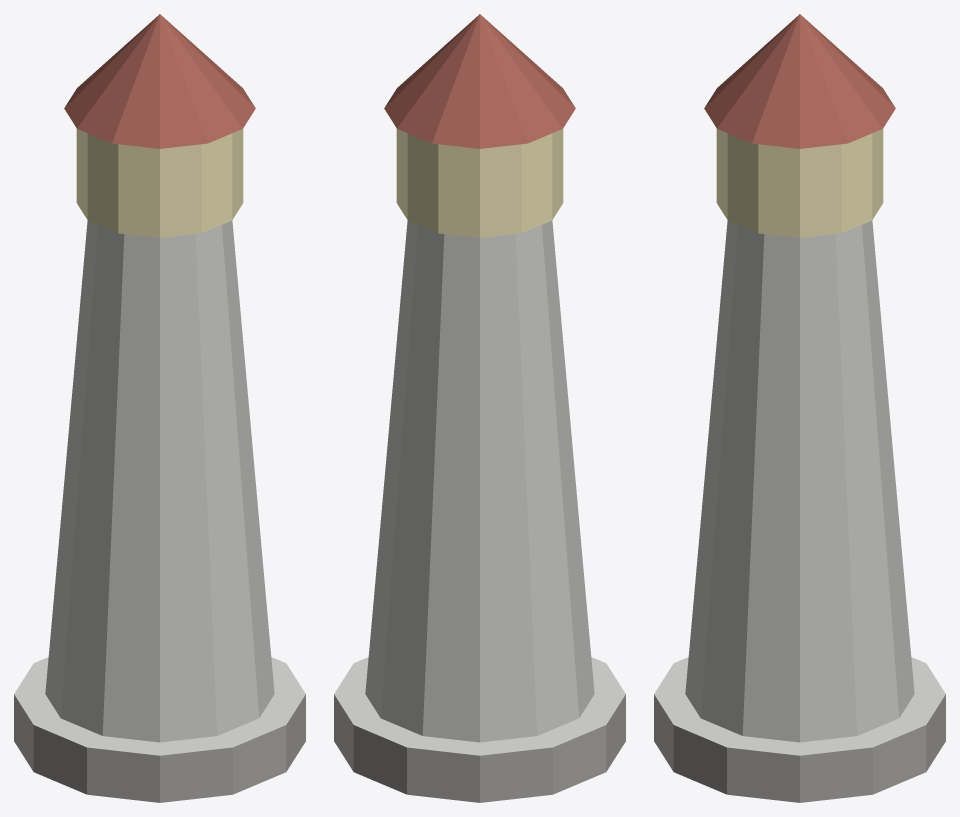
File: Lighthouse.fbx
The picture shows the model from 3 angles, left to right: view 1: azimuth 30°, elevation 25°; view 2: azimuth 150°, elevation 25°; view 3: azimuth 270°, elevation 25°; orthographic projection.
Visible parts, largest first — view 1: Lighthouse; view 2: Lighthouse; view 3: Lighthouse.
Boxes of the visible parts, left/top/right/bottom form: Lighthouse: left=14, top=14, right=305, bottom=802; Lighthouse: left=334, top=14, right=625, bottom=802; Lighthouse: left=654, top=14, right=945, bottom=802.
Bounding box in the file's own units: 1.4 × 3.85 × 1.4.
